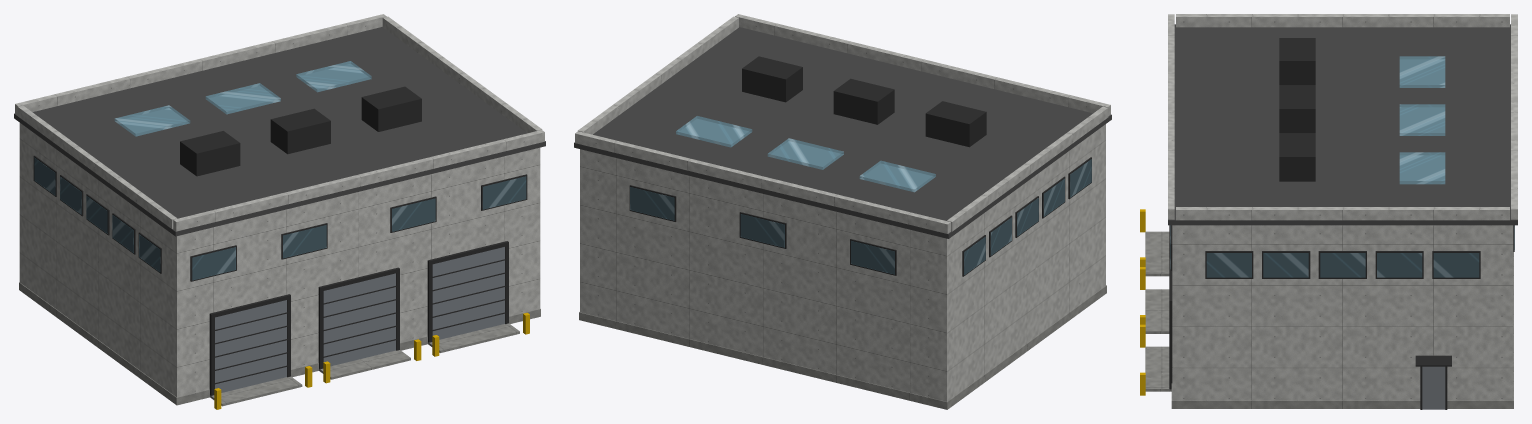
File: warehouse_industrial_variant_a.glb
The picture shows the model from 3 angles, left to right: view 1: azimuth 30°, elevation 25°; view 2: azimuth 150°, elevation 25°; view 3: azimuth 270°, elevation 25°; orthographic projection. The views are drawn at different scales.
Visible parts, largest first — view 1: concrete_B8B8B4, flat_4A4A4A, flat_2C2C2C, flat_7A7F85, glass_87CEEB, concrete_8C8C88, flat_E0B000; view 2: concrete_B8B8B4, flat_4A4A4A, flat_2C2C2C, glass_87CEEB, concrete_8C8C88; view 3: concrete_B8B8B4, flat_4A4A4A, flat_2C2C2C, glass_87CEEB, concrete_8C8C88, flat_7A7F85, flat_E0B000.
Boxes of the visible parts, bbox=[...] form: concrete_B8B8B4: bbox=[15, 14, 544, 397]; flat_4A4A4A: bbox=[14, 27, 545, 236]; flat_2C2C2C: bbox=[33, 86, 527, 397]; flat_7A7F85: bbox=[215, 247, 504, 392]; glass_87CEEB: bbox=[34, 61, 525, 279]; concrete_8C8C88: bbox=[19, 282, 540, 406]; flat_E0B000: bbox=[214, 312, 529, 409]; concrete_B8B8B4: bbox=[575, 14, 1110, 401]; flat_4A4A4A: bbox=[574, 27, 1111, 238]; flat_2C2C2C: bbox=[629, 56, 1091, 276]; glass_87CEEB: bbox=[630, 116, 1091, 274]; concrete_8C8C88: bbox=[579, 285, 1106, 409]; concrete_B8B8B4: bbox=[1168, 14, 1517, 400]; flat_4A4A4A: bbox=[1168, 24, 1517, 225]; flat_2C2C2C: bbox=[1169, 38, 1514, 409]; glass_87CEEB: bbox=[1170, 56, 1514, 277]; concrete_8C8C88: bbox=[1145, 231, 1513, 408]; flat_7A7F85: bbox=[1422, 366, 1445, 409]; flat_E0B000: bbox=[1140, 209, 1145, 395].
Size of the model in its own units: 21.2 by 10.45 by 16.62.
7 materials, 7 textured.
